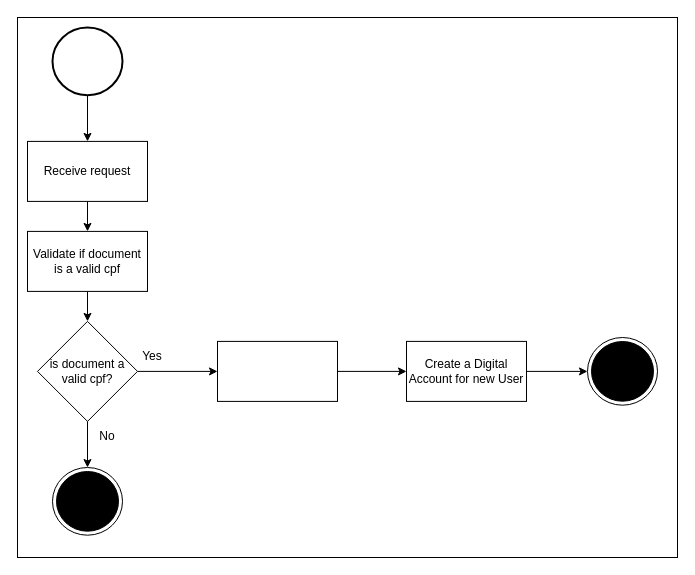
Image size: 695x575. Some labels were removed from this diagram. The centre of each missing label's shape, as x and y in pixels:
"Insert New User" goes at (x=277, y=370).
"Start" goes at (x=87, y=61).
